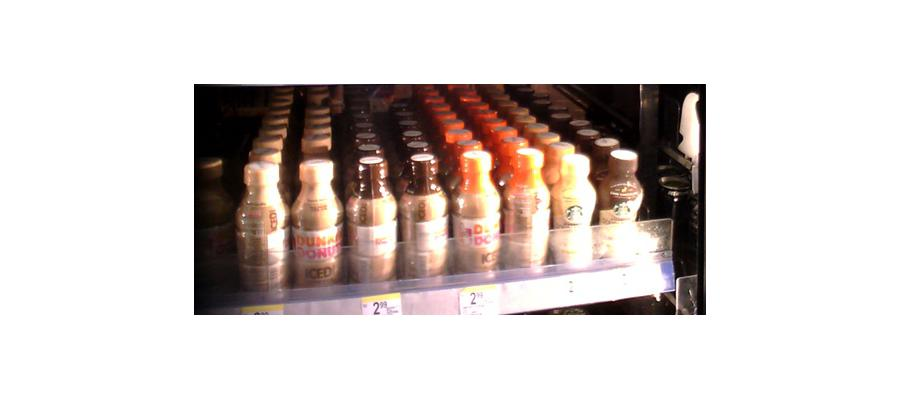bottle: (234, 127, 287, 297), (290, 154, 341, 293), (448, 144, 501, 277), (395, 146, 447, 278), (345, 149, 394, 285), (501, 143, 548, 269), (550, 144, 593, 271), (600, 142, 647, 255)
